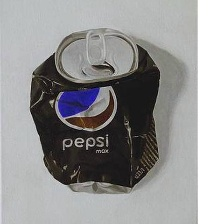can: (24, 21, 171, 201)
